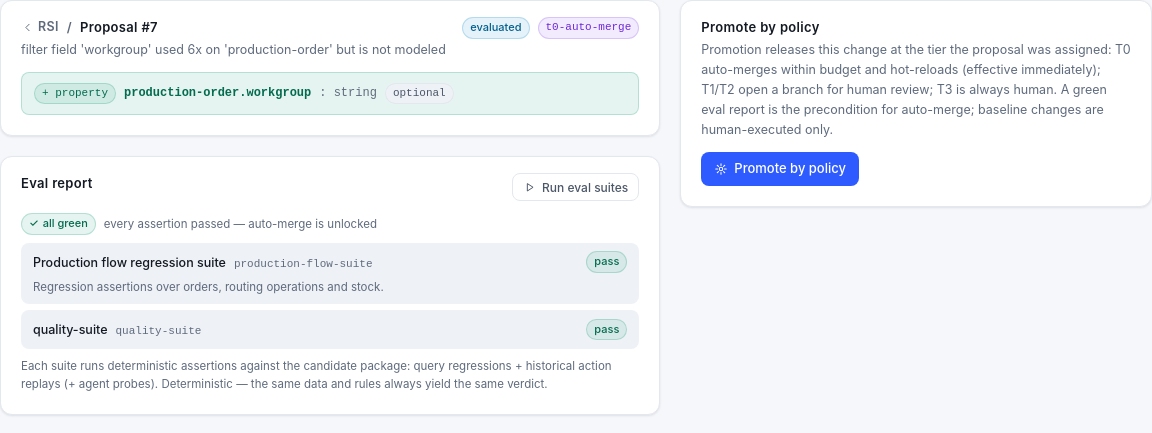
it: ProposalDetail › shows the promotion result with tier and budget
Click the button with test id "promote-proposal".
click(780, 169)  # box top-left (701, 152), bottom-right (859, 186)
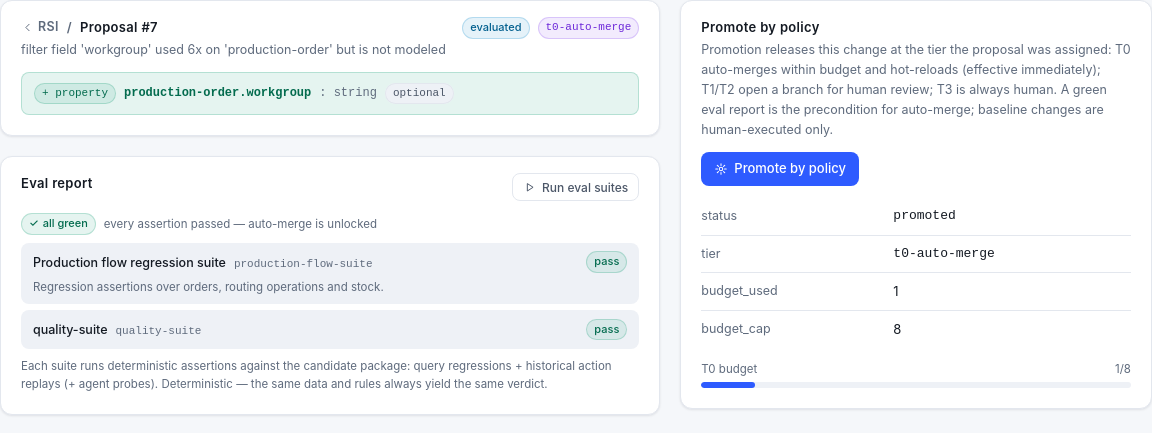
Now the element with test id "promote-result" is shown, box top-left (701, 198), bottom-right (1131, 348)
Now the element with test id "promote-result" shows "promoted", box top-left (893, 208), bottom-right (956, 223)
Now the element with test id "promote-result" shows "t0-auto-merge", box top-left (893, 246), bottom-right (995, 261)
